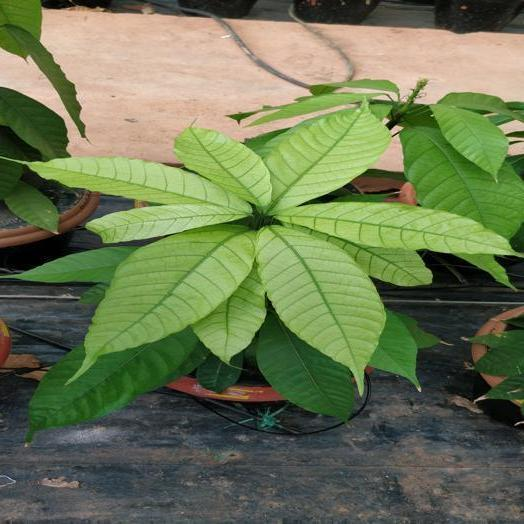Healthy Leaf: (26, 328, 203, 441), (401, 128, 523, 237), (257, 313, 353, 420), (433, 103, 507, 179), (0, 87, 67, 157), (12, 247, 137, 282), (249, 93, 382, 125), (368, 313, 419, 388)
Iron: (74, 226, 253, 377), (257, 226, 384, 392), (264, 103, 389, 213), (26, 157, 250, 211), (275, 203, 511, 253), (297, 226, 431, 286), (175, 127, 271, 206), (193, 265, 265, 363), (88, 204, 246, 242)
